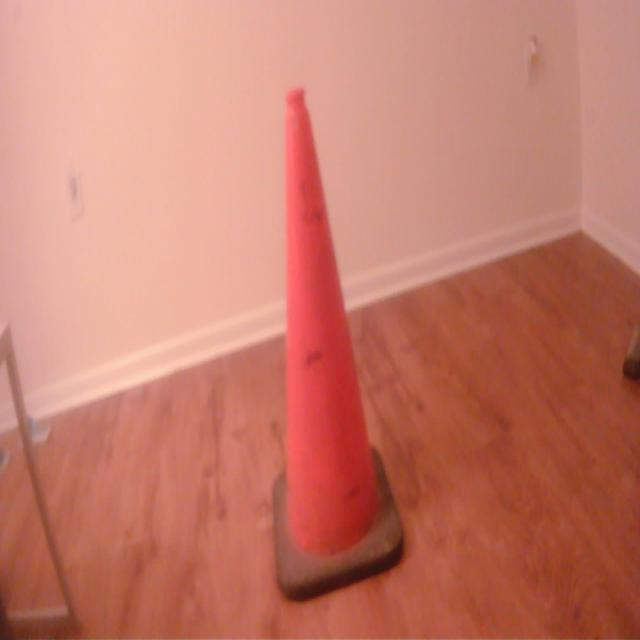traffic cone: (269, 78, 410, 619)
